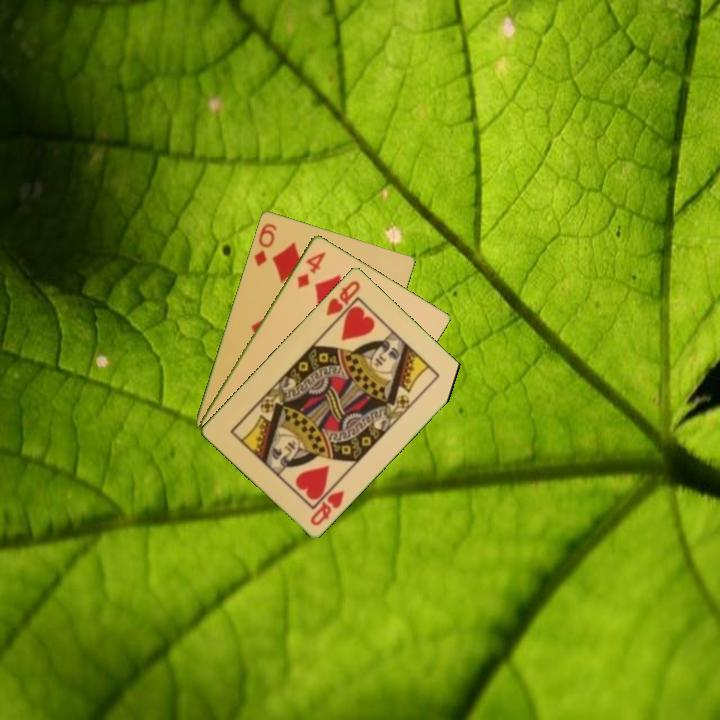4d: (293, 248, 329, 291)
6d: (250, 219, 279, 269)
Qh: (322, 277, 363, 318), (307, 486, 347, 528)
